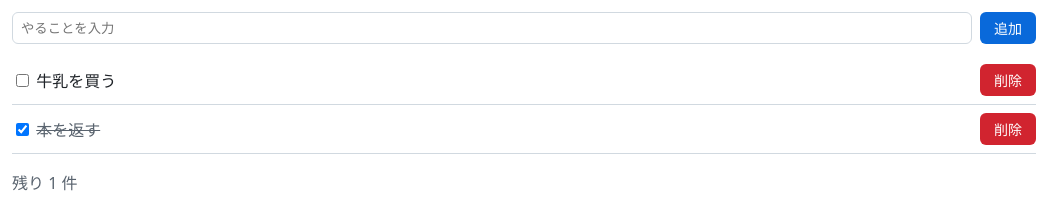
Test: TodoList › toggles and removes items
The image size is (1048, 211).
Click the checkbox labelled "牛乳を買う".
click(22, 80)  # box 16,74 -> 29,87
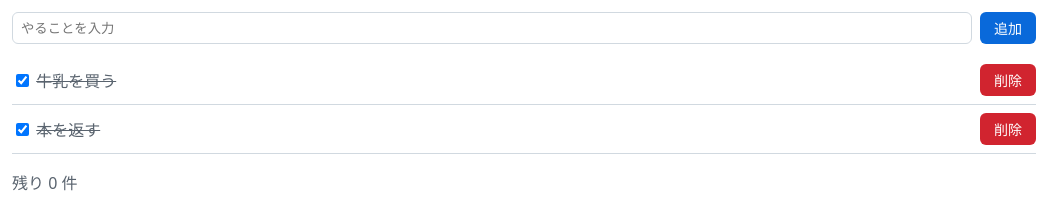
Expected: the text "残り 0 件" is shown, 12,172 -> 78,194
Click the button named "牛乳を買う を削除".
click(1008, 80)  # box 980,64 -> 1036,96
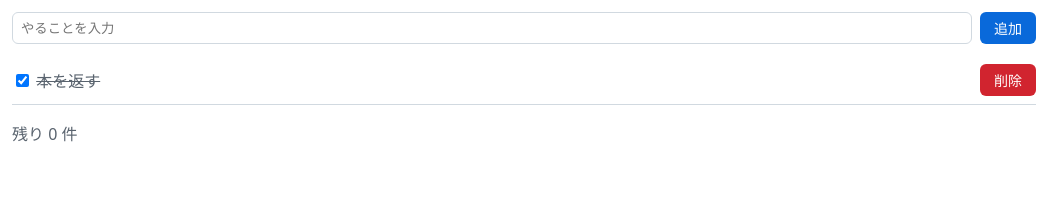
Expected: the text "牛乳を買う" is gone
